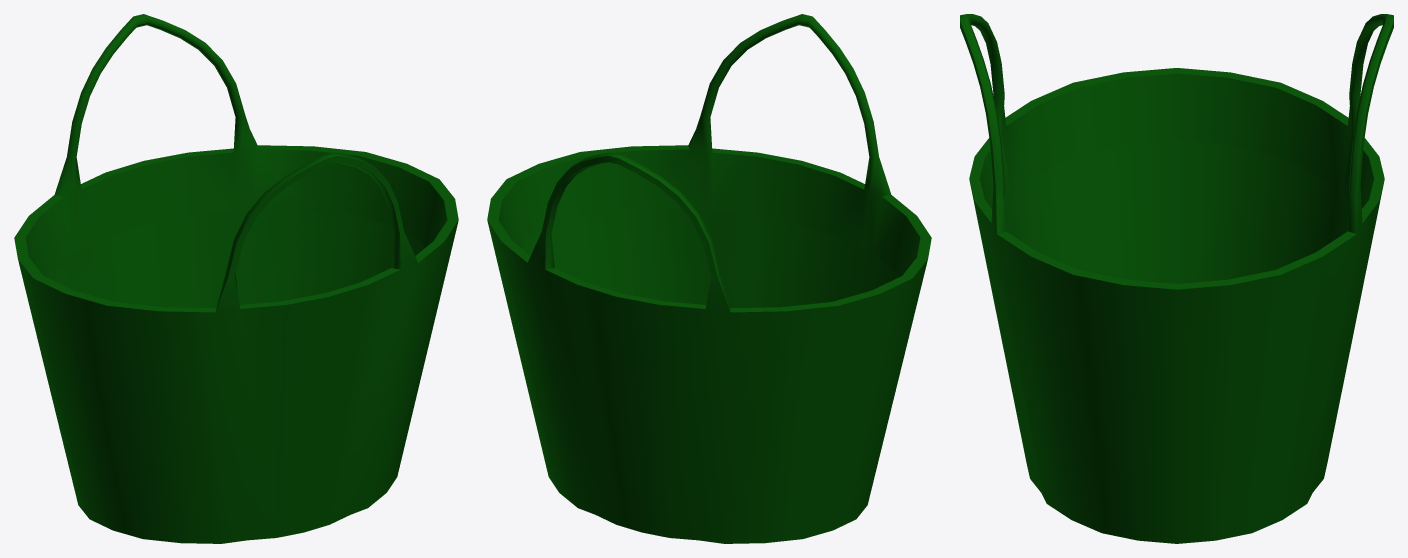
Rendered from hamper02.FBX.
3 renders of one model, left to right at view 1: azimuth 30°, elevation 25°; view 2: azimuth 150°, elevation 25°; view 3: azimuth 270°, elevation 25°, orthographic. The views are drawn at different scales.
Parts seen in each view (by area): view 1: SM_hamper02_0; view 2: SM_hamper02_0; view 3: SM_hamper02_0.
Boxes of the visible parts, x1,y1,x2,y2 form: SM_hamper02_0: (14, 14, 458, 543); SM_hamper02_0: (487, 14, 931, 543); SM_hamper02_0: (960, 14, 1393, 543).
Size of the model in its own units: 66.39 by 54.88 by 62.28.
